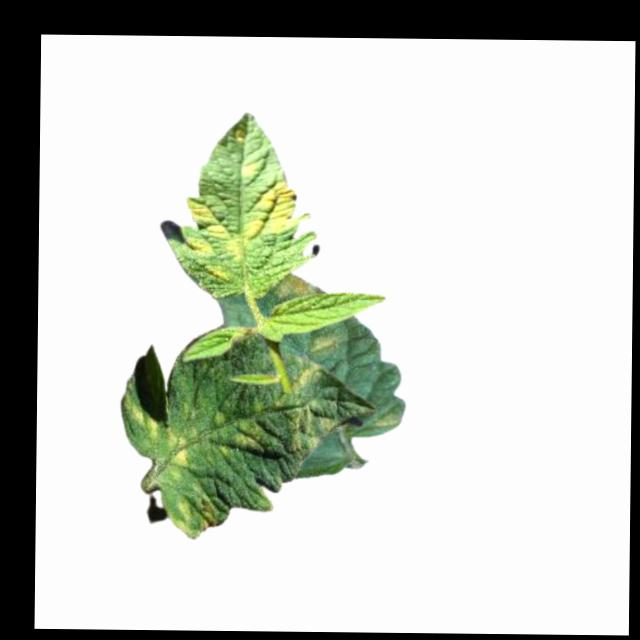Leaf_Mold: (181, 197, 243, 261), (246, 179, 298, 239), (171, 485, 220, 539), (286, 407, 342, 454), (271, 270, 322, 302), (160, 428, 192, 465), (231, 418, 265, 451), (290, 364, 323, 394), (305, 330, 342, 356), (373, 412, 403, 432), (239, 157, 258, 179), (208, 264, 229, 283), (144, 413, 159, 438)
